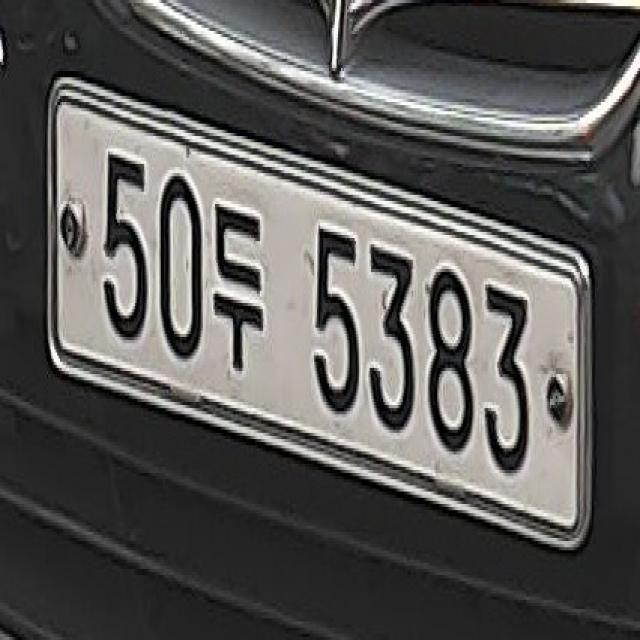0: (158, 162, 203, 372)
3: (366, 231, 417, 448), (482, 279, 534, 486)
5: (309, 222, 362, 429), (100, 144, 148, 355)
8: (424, 259, 478, 466)
du: (206, 190, 272, 392)
license_plate: (44, 86, 600, 570)
